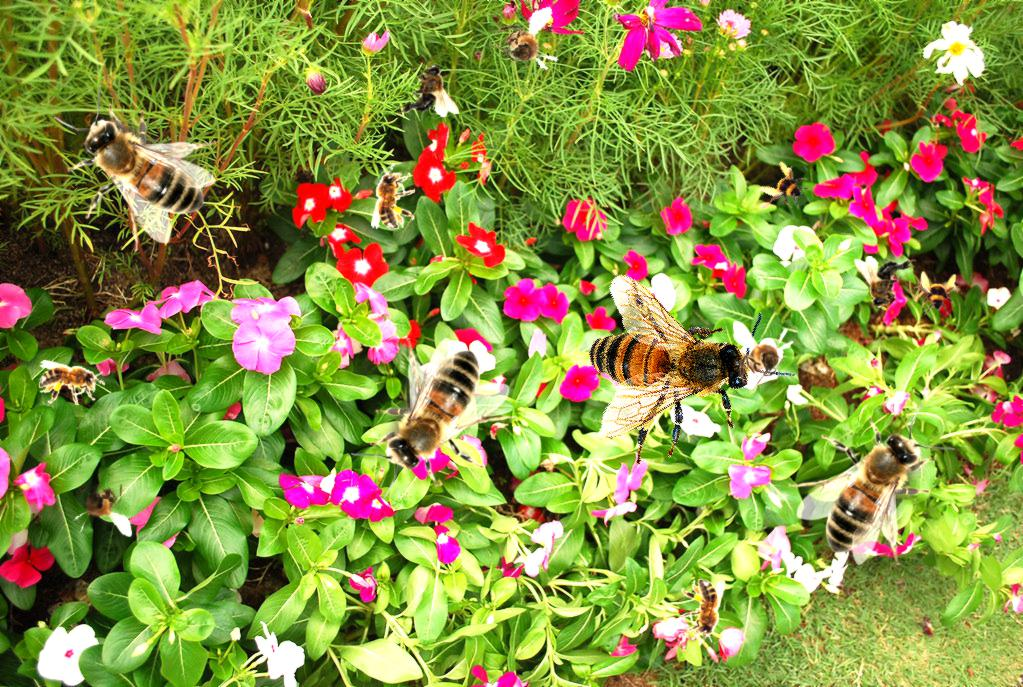Bee: (530, 226, 815, 510), (54, 85, 216, 252), (351, 338, 518, 500), (788, 403, 955, 565), (483, 6, 568, 84), (67, 467, 134, 543), (733, 321, 794, 391), (755, 157, 817, 219), (369, 162, 417, 231), (854, 256, 916, 309), (397, 64, 459, 117), (38, 359, 106, 406), (680, 579, 725, 645), (914, 271, 958, 315)
